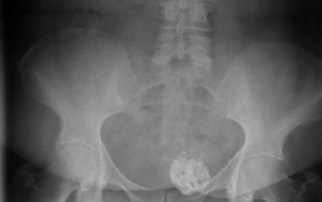Uterine fibroids: (170, 156, 211, 193)
